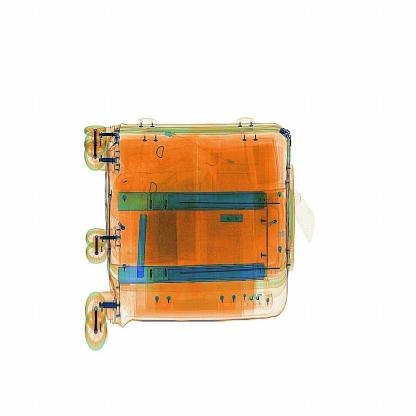pliers: (132, 211, 150, 278)
